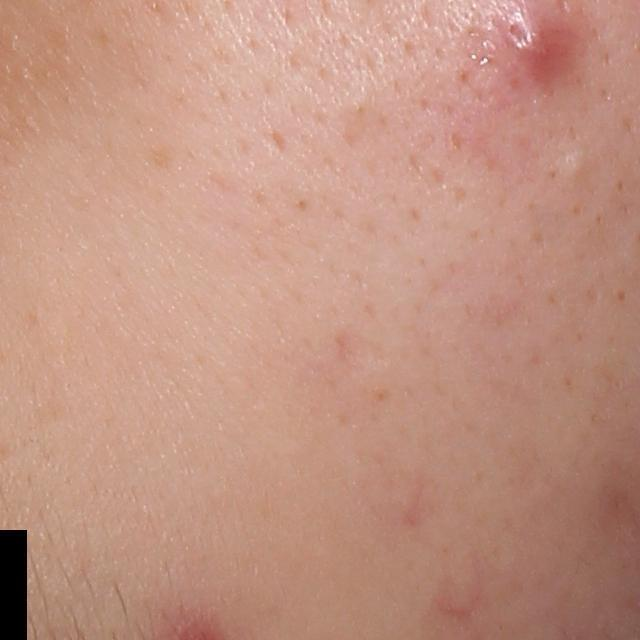atrophic_scar: (335, 327, 385, 383), (270, 128, 292, 156)
comedo: (558, 148, 590, 184)
papule: (510, 10, 565, 80)
